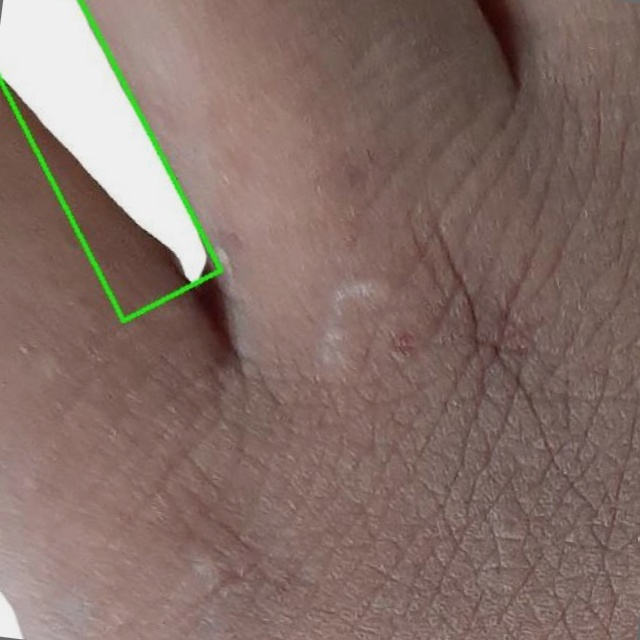Scabies: (17, 0, 225, 320)
